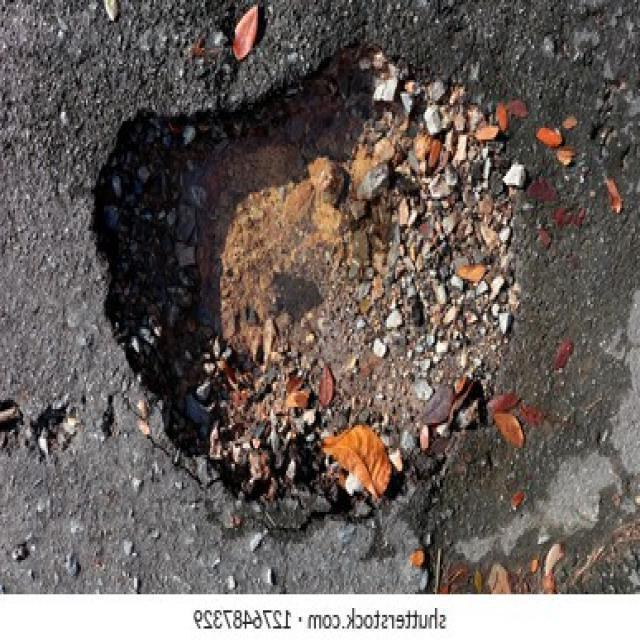pothole: (78, 32, 586, 526)
